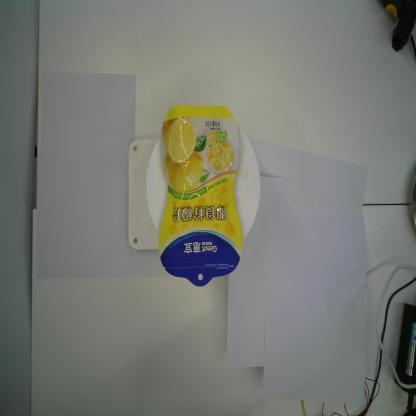Dried Fruit: (158, 104, 243, 287)
